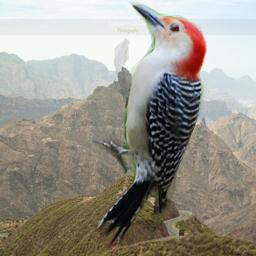Woodpecker: (92, 2, 207, 248)
